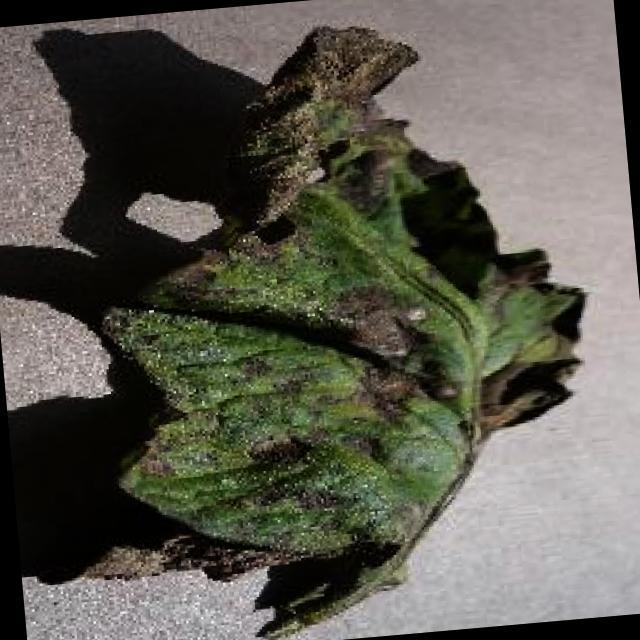Tomato Early blight leaf: (0, 1, 613, 640)
